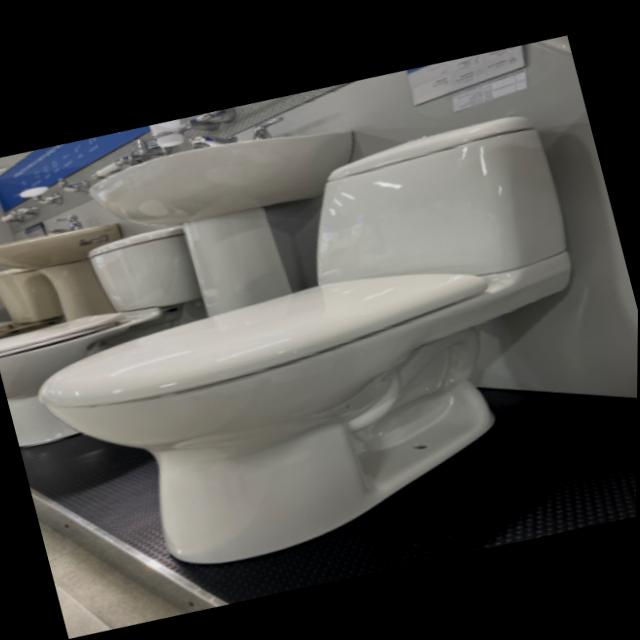toilet: (0, 80, 634, 613)
